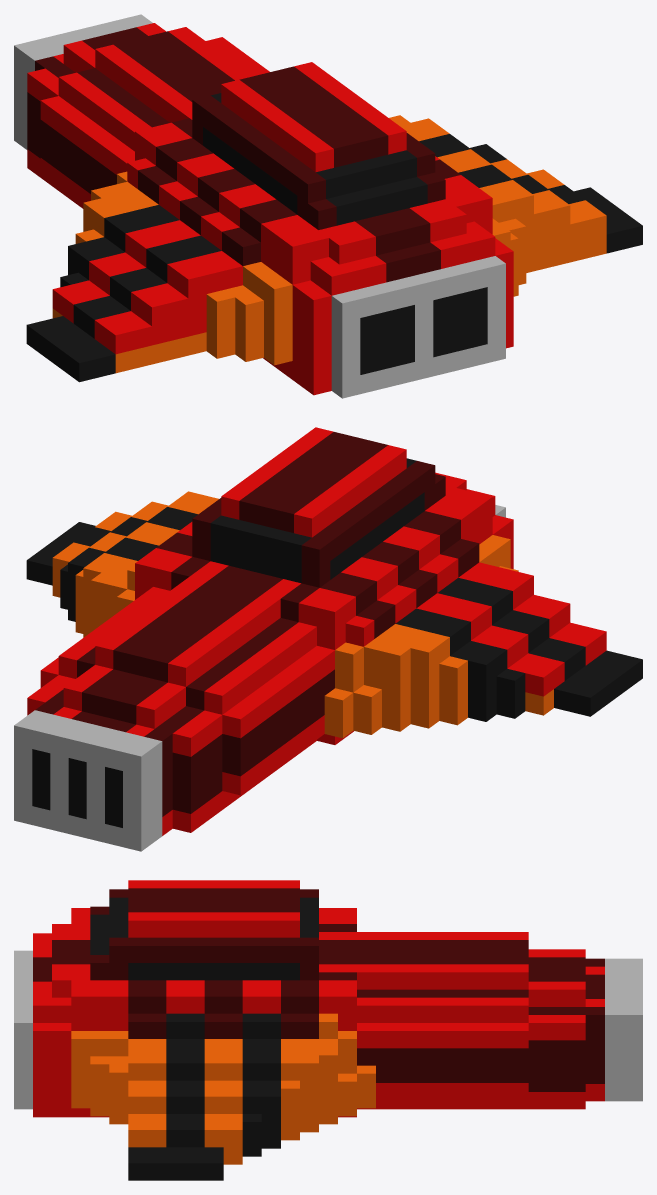
File: pyro_can.obj
3 views of the same model, one above another, from view 1: azimuth 30°, elevation 25°; view 2: azimuth 150°, elevation 25°; view 3: azimuth 270°, elevation 25° (orthographic). The views are drawn at different scales.
Bounding box in the file's own units: 3.1 × 1 × 3.3.
Materials: 1 (1 with a texture image).
